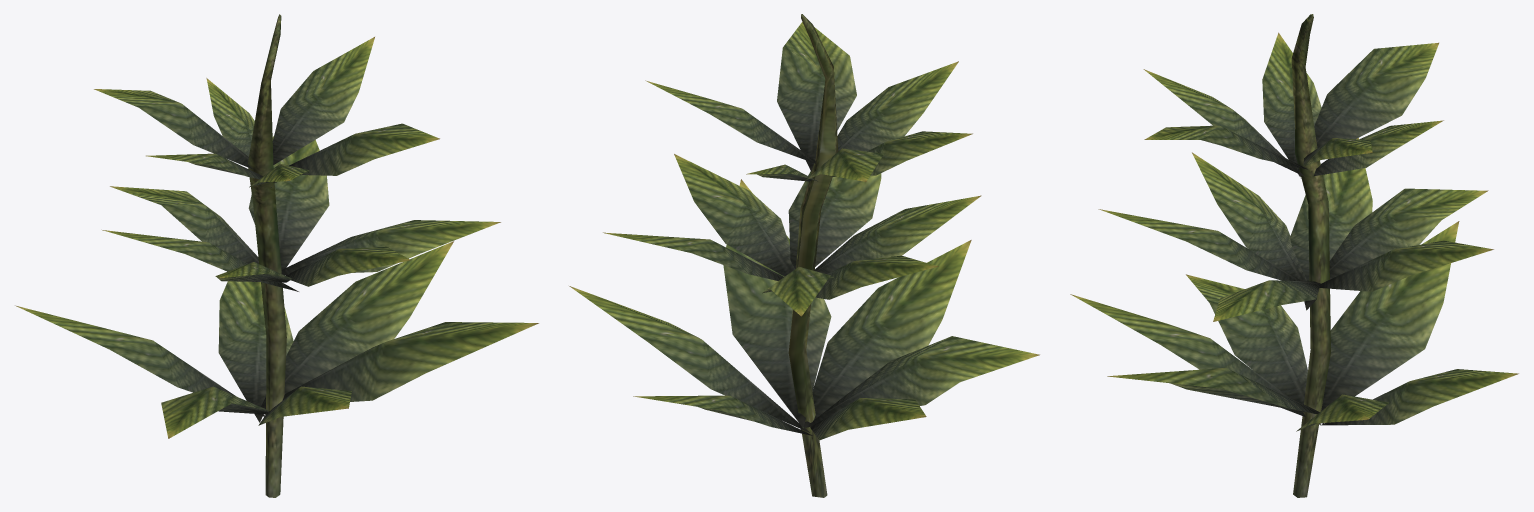
Rendered from SM_Plains_Fern04.FBX.
3 views of the same model, side by side, from view 1: azimuth 30°, elevation 25°; view 2: azimuth 150°, elevation 25°; view 3: azimuth 270°, elevation 25° (orthographic). The views are drawn at different scales.
Parts seen in each view (by area): view 1: SM_Plains_Fern04; view 2: SM_Plains_Fern04; view 3: SM_Plains_Fern04.
Boxes of the visible parts, x1=… form: SM_Plains_Fern04: x1=15, y1=14, x2=538, y2=497; SM_Plains_Fern04: x1=569, y1=14, x2=1039, y2=497; SM_Plains_Fern04: x1=1070, y1=14, x2=1518, y2=497.
Size of the model in its own units: 48.16 by 55.01 by 46.08.
1 material, 1 textured.
